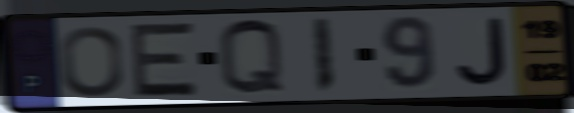9: (378, 13, 439, 94)
E: (129, 20, 201, 100)
I: (309, 16, 337, 96)
J: (452, 15, 511, 89)
O: (57, 24, 126, 99)
Q: (215, 16, 288, 99)
